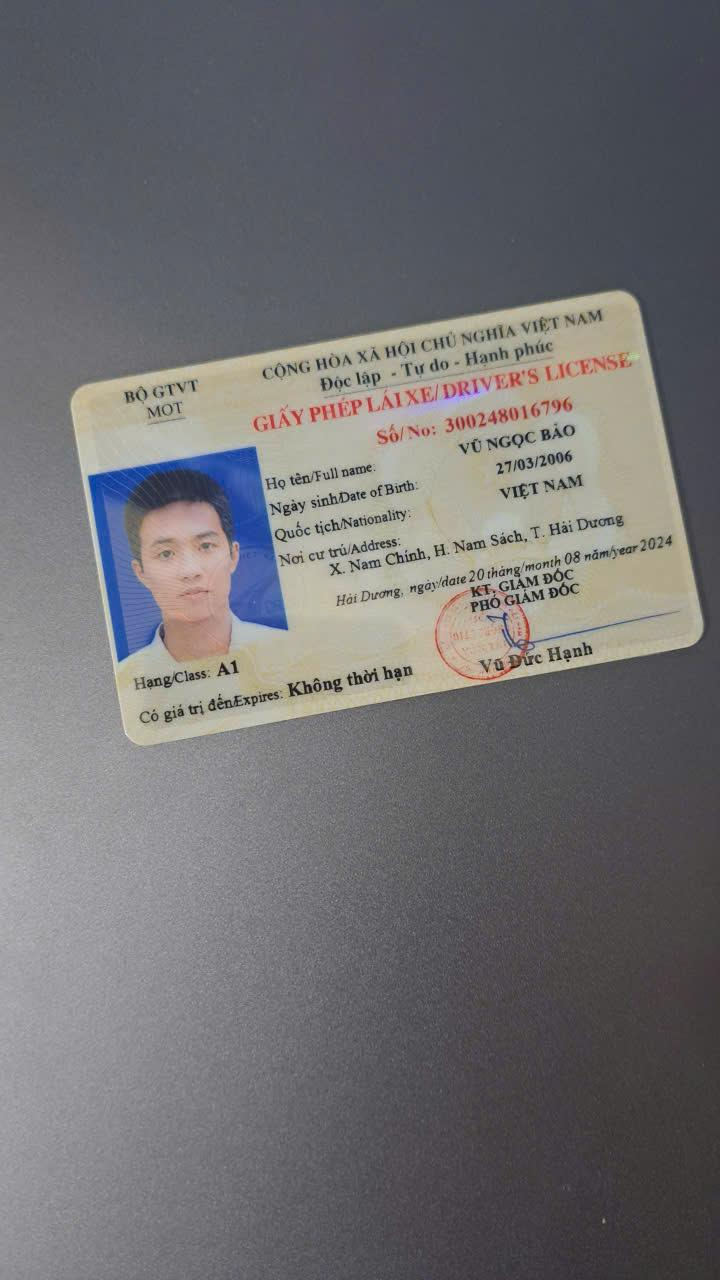gplx: (62, 285, 715, 753)
